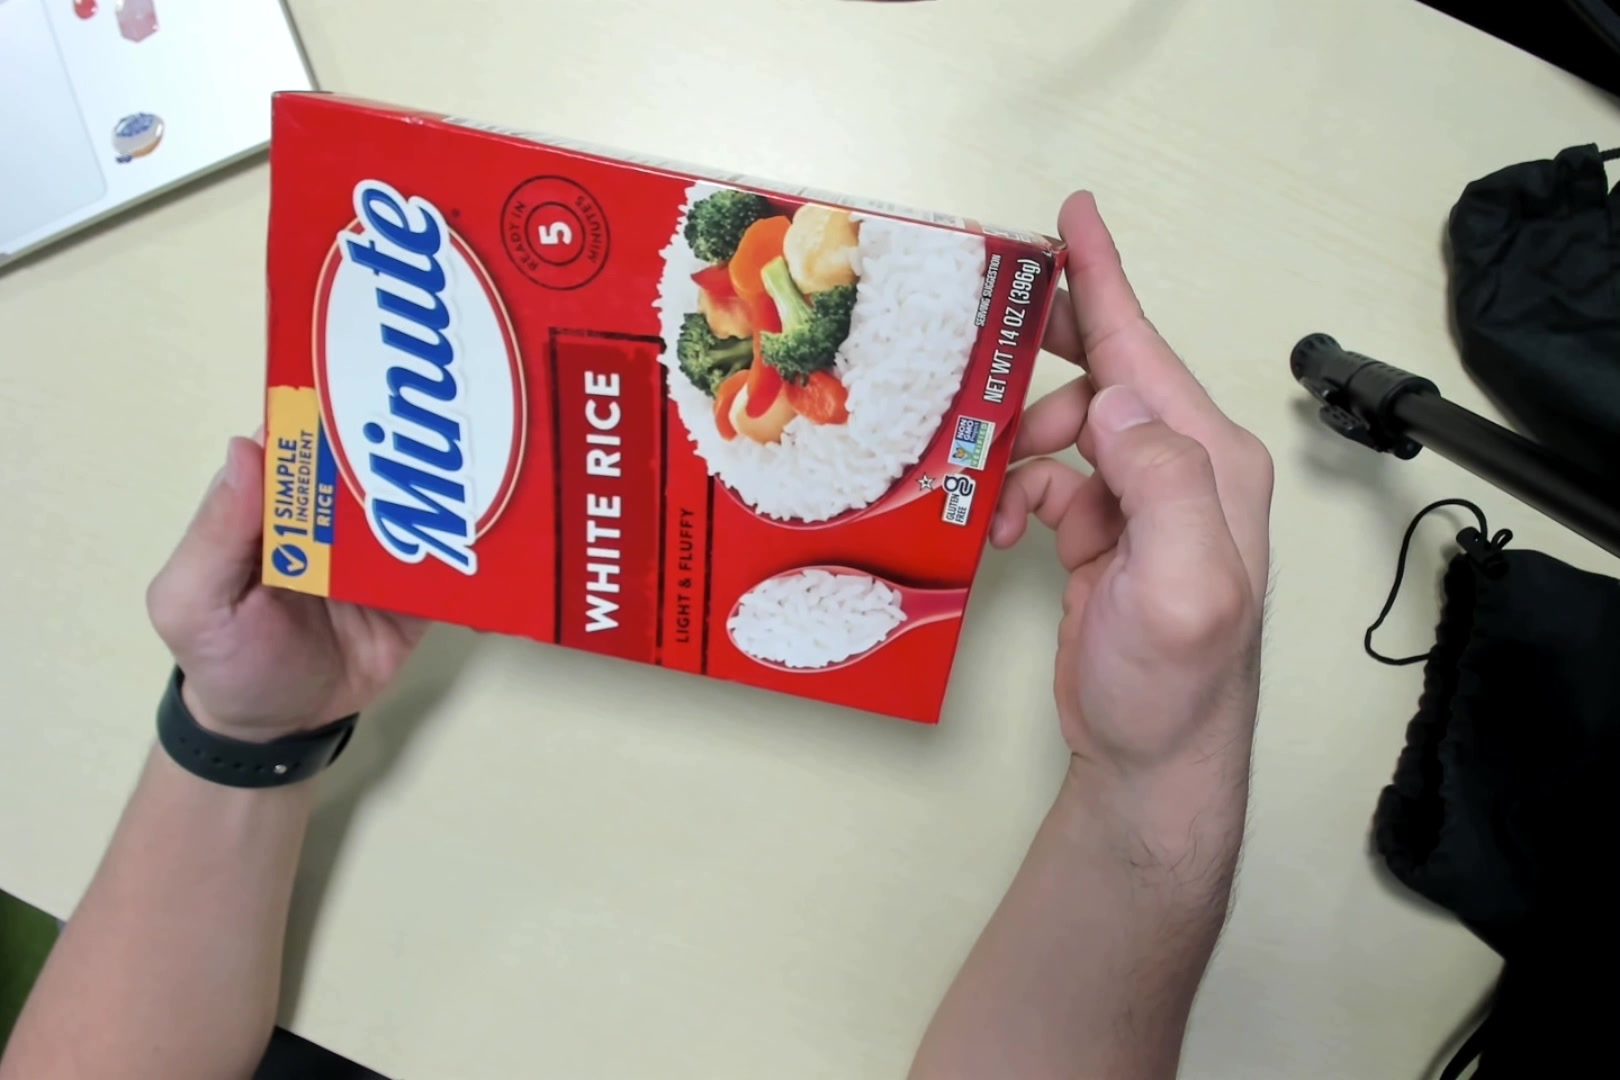Rice(White)_300-399g_NonHalal_NonHealthy: (251, 90, 1066, 735)
